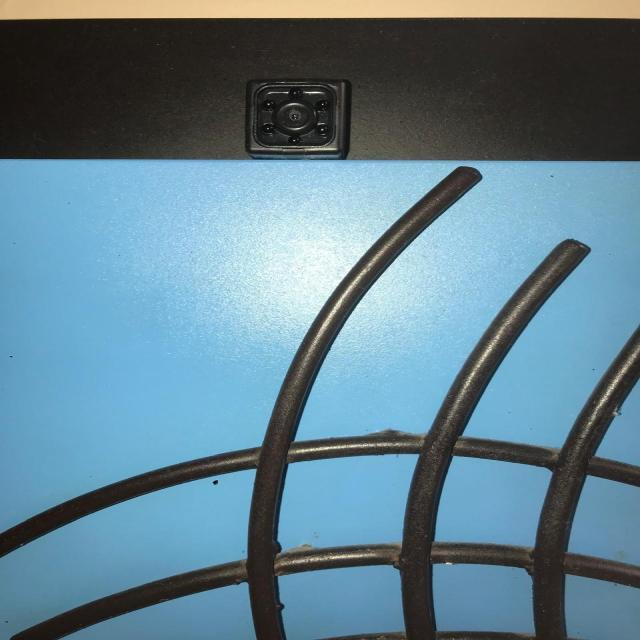hidden camera: (273, 102, 316, 132)
